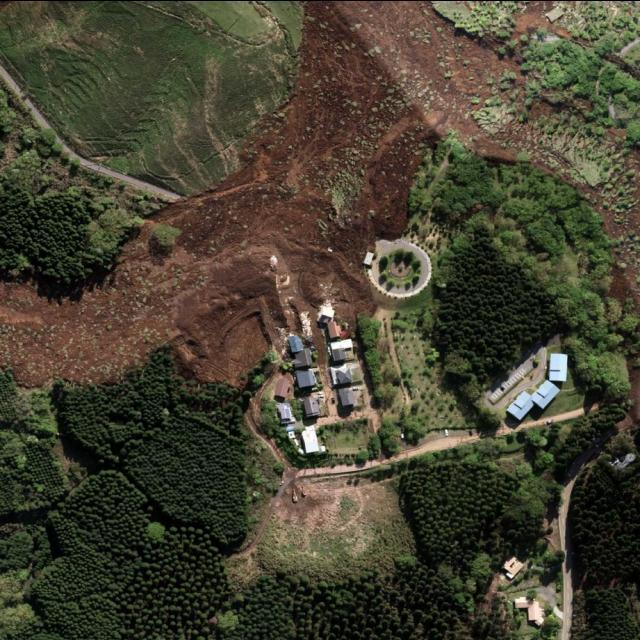landslide: (0, 0, 639, 385)
